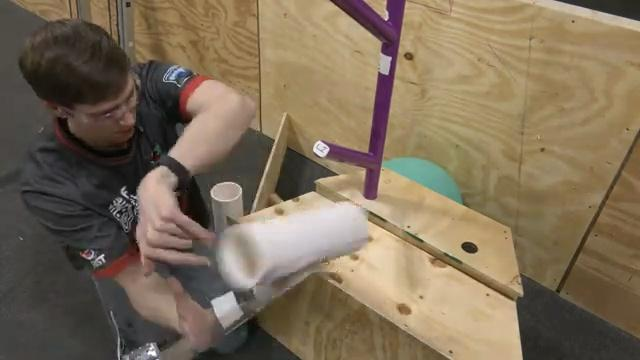CORAL: (215, 200, 369, 292), (212, 183, 244, 241)
